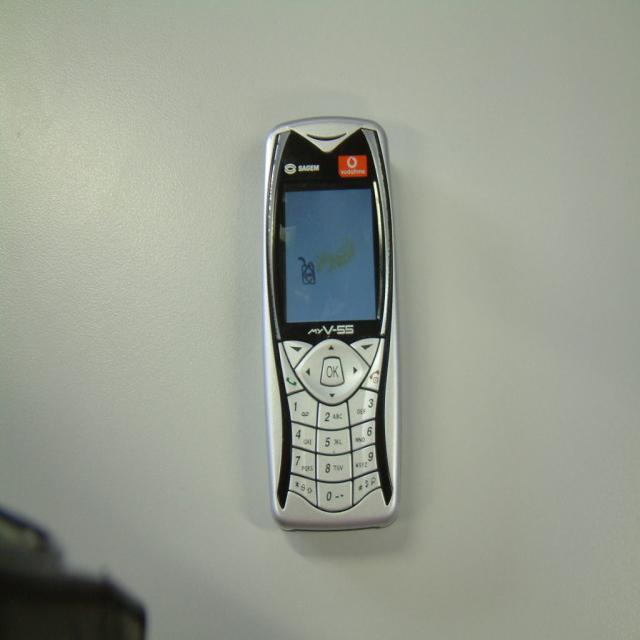Mobile-phone: (266, 113, 401, 528)
